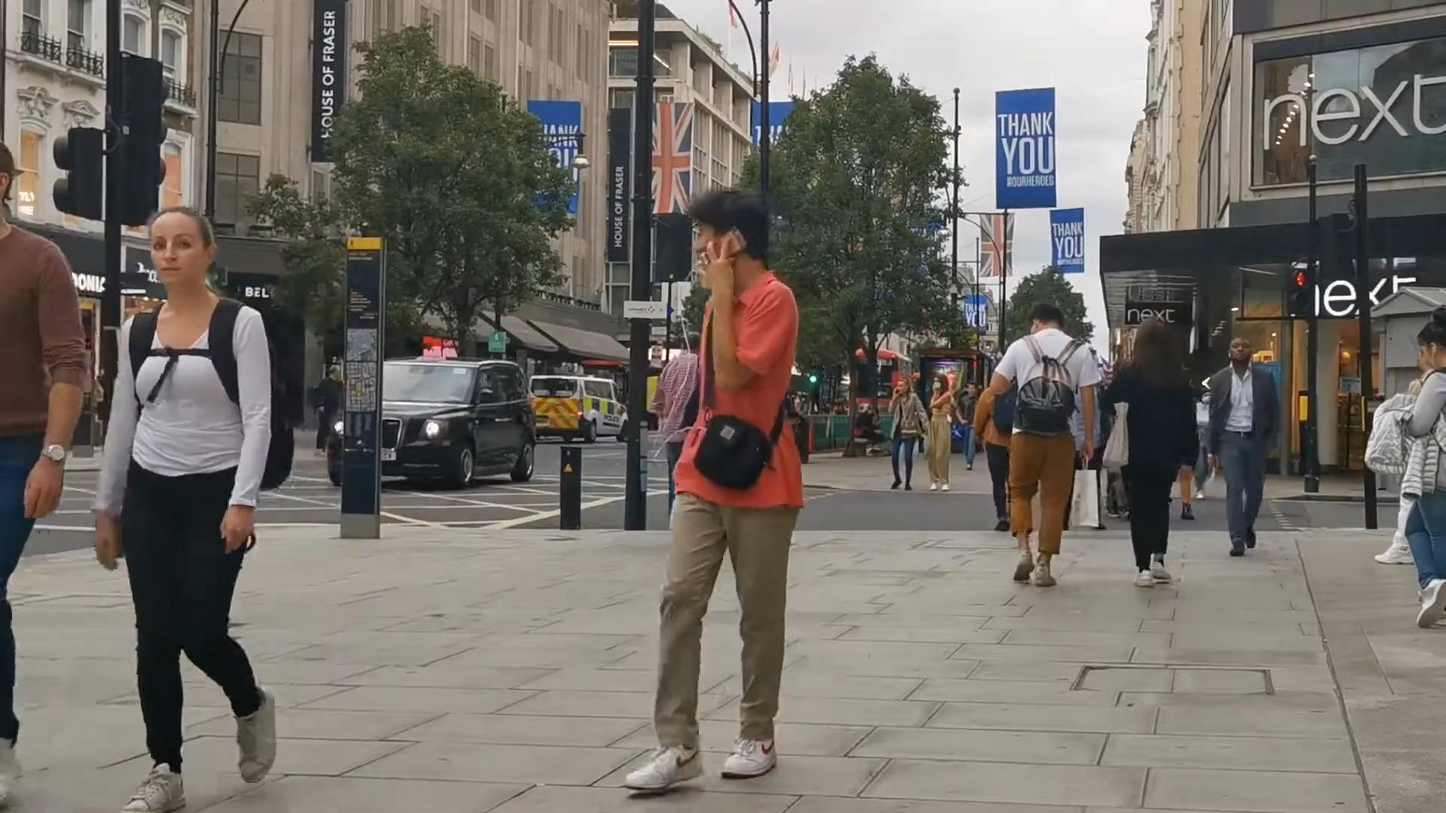no-helmet: (685, 187, 769, 274), (147, 206, 218, 287), (1132, 318, 1181, 370), (1416, 306, 1446, 372), (1028, 304, 1065, 335), (1228, 336, 1254, 364), (933, 373, 949, 392), (897, 375, 911, 395)
